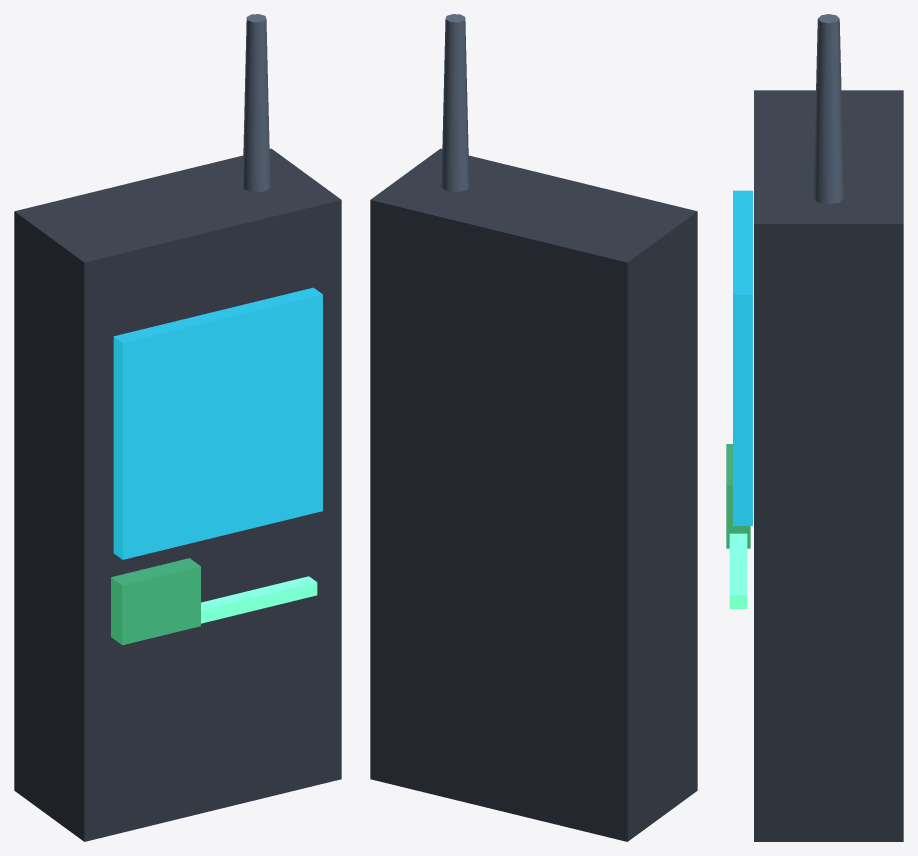
Rendered from street_terminal.glb.
3 views of the same model, side by side, from view 1: azimuth 30°, elevation 25°; view 2: azimuth 150°, elevation 25°; view 3: azimuth 270°, elevation 25° (orthographic). The views are drawn at different scales.
Visible parts, largest first — view 1: street_terminal_body, street_terminal_screen, street_terminal_payment_pad, street_terminal_antenna, street_terminal_status_strip; view 2: street_terminal_body, street_terminal_antenna; view 3: street_terminal_body, street_terminal_screen, street_terminal_antenna, street_terminal_status_strip, street_terminal_payment_pad.
Boxes of the visible parts, box(x1,y1,x2,y2) form: street_terminal_body: box(14, 148, 341, 841); street_terminal_screen: box(113, 287, 322, 559); street_terminal_payment_pad: box(111, 558, 200, 645); street_terminal_antenna: box(242, 14, 270, 192); street_terminal_status_strip: box(201, 576, 317, 623); street_terminal_body: box(370, 148, 697, 841); street_terminal_antenna: box(441, 14, 469, 192); street_terminal_body: box(754, 90, 903, 841); street_terminal_screen: box(733, 190, 752, 525); street_terminal_antenna: box(813, 14, 843, 204); street_terminal_status_strip: box(729, 533, 747, 608); street_terminal_payment_pad: box(726, 444, 750, 548).
Size of the model in its own units: 0.72 by 2 by 0.4025.
